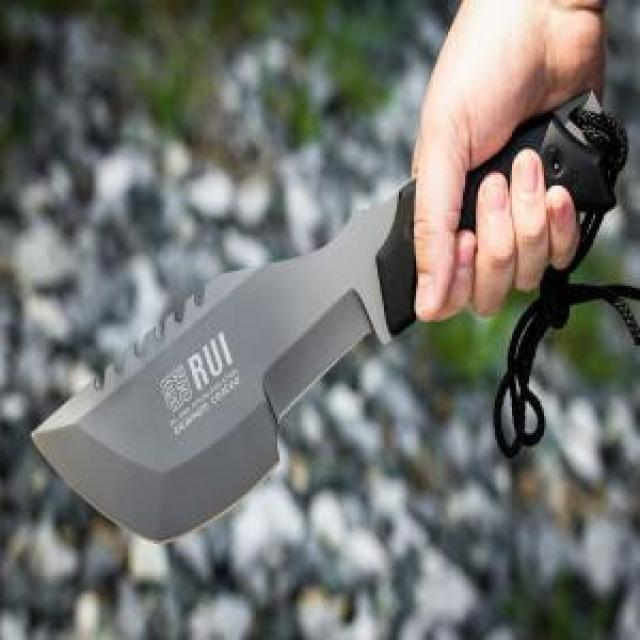knife: (15, 160, 459, 574)
